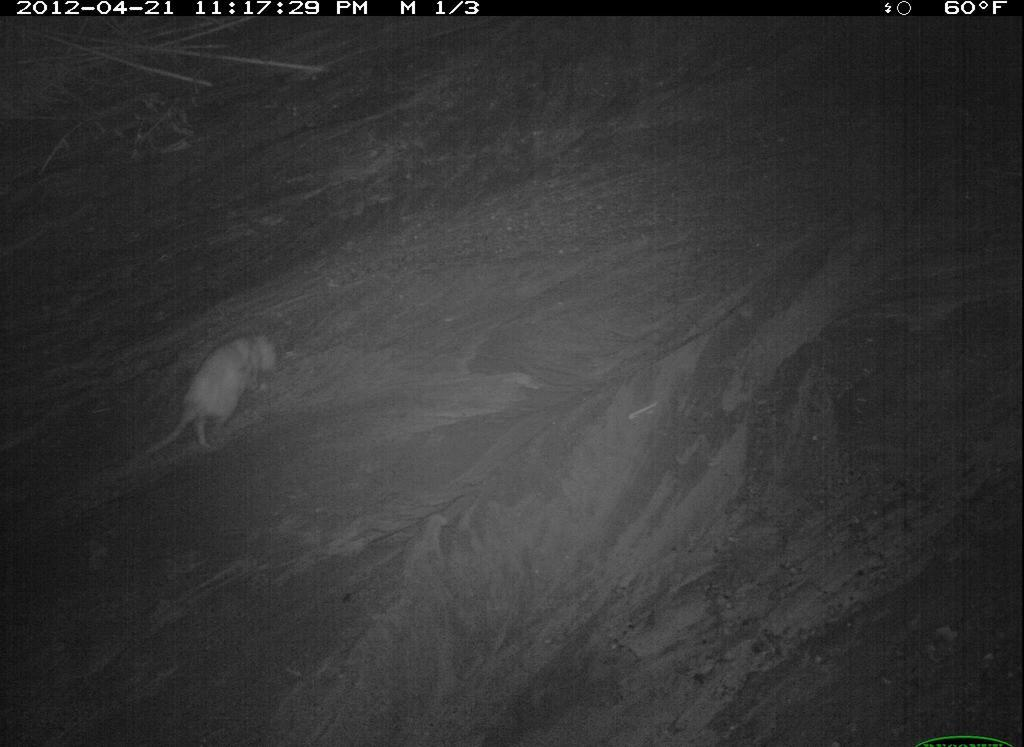opossum: (277, 651, 569, 747)
